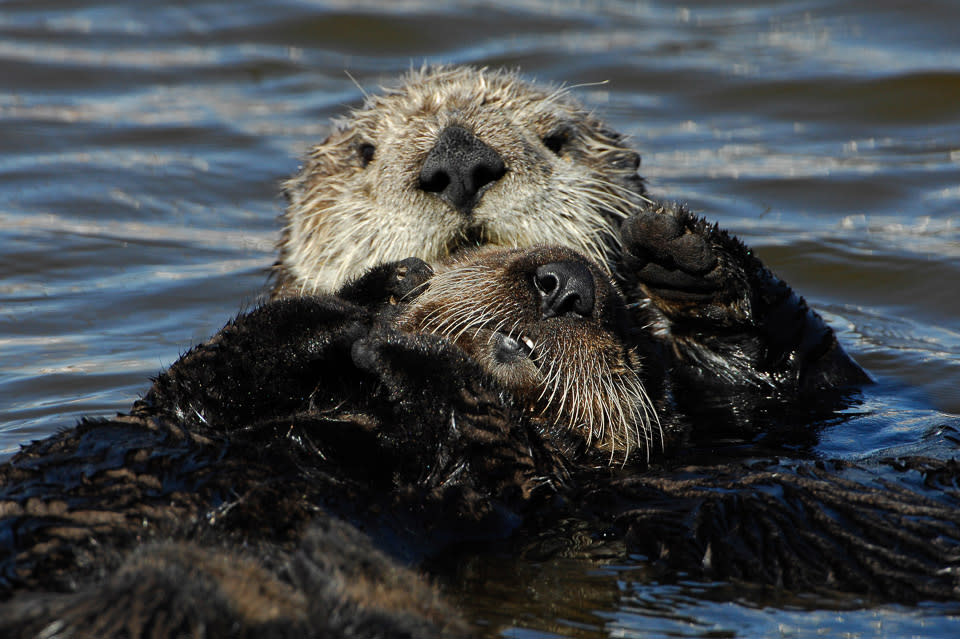otter: (54, 72, 730, 534)
